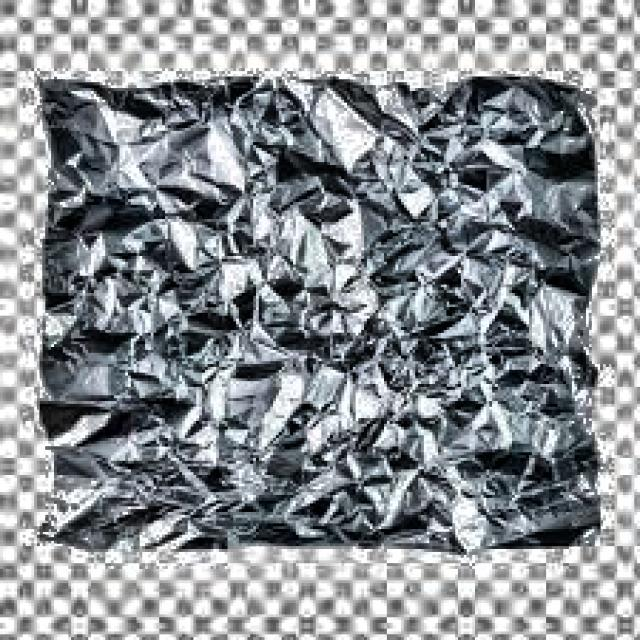Foil: (33, 65, 615, 554)
